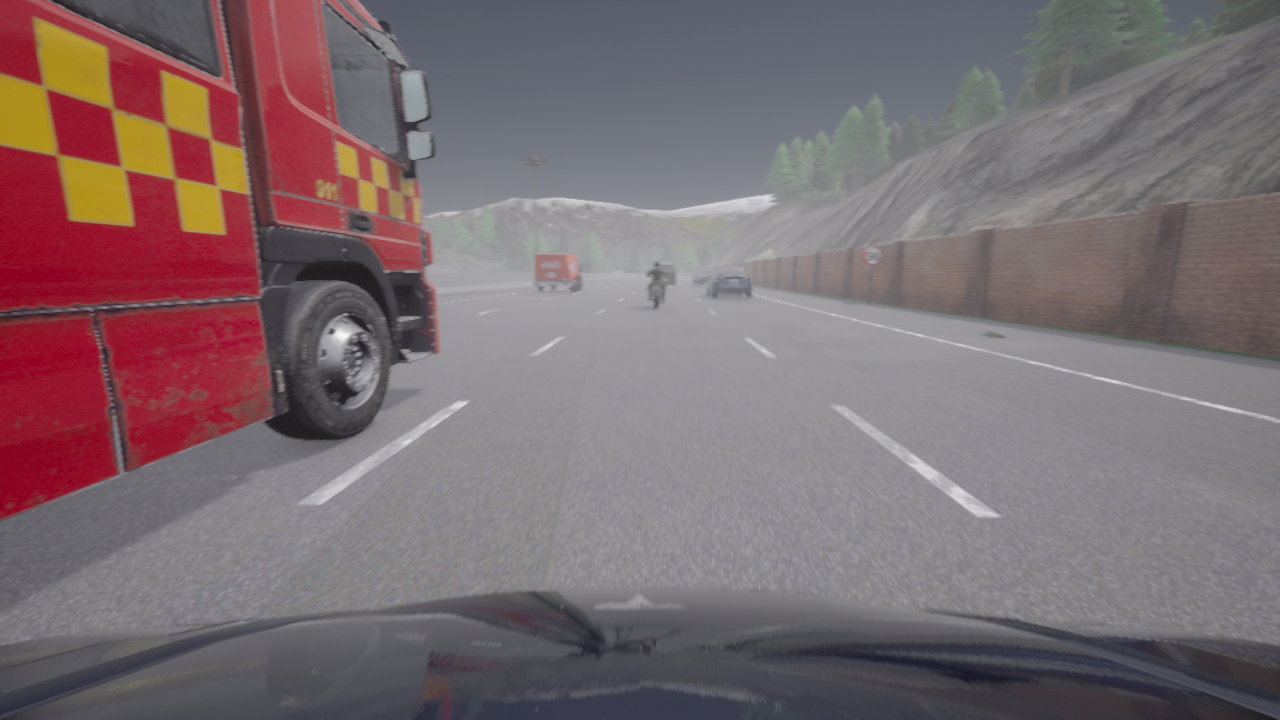cyclist: (0, 588, 1279, 719), (533, 254, 584, 291), (707, 268, 752, 298), (647, 271, 665, 309), (659, 263, 677, 289), (693, 272, 712, 286)
